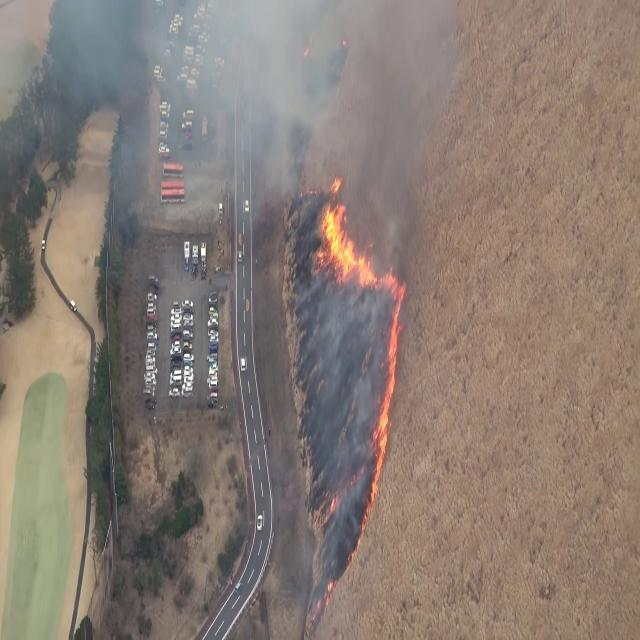Fire: (311, 173, 376, 291), (372, 282, 407, 478)
Smoke: (183, 0, 456, 218)
